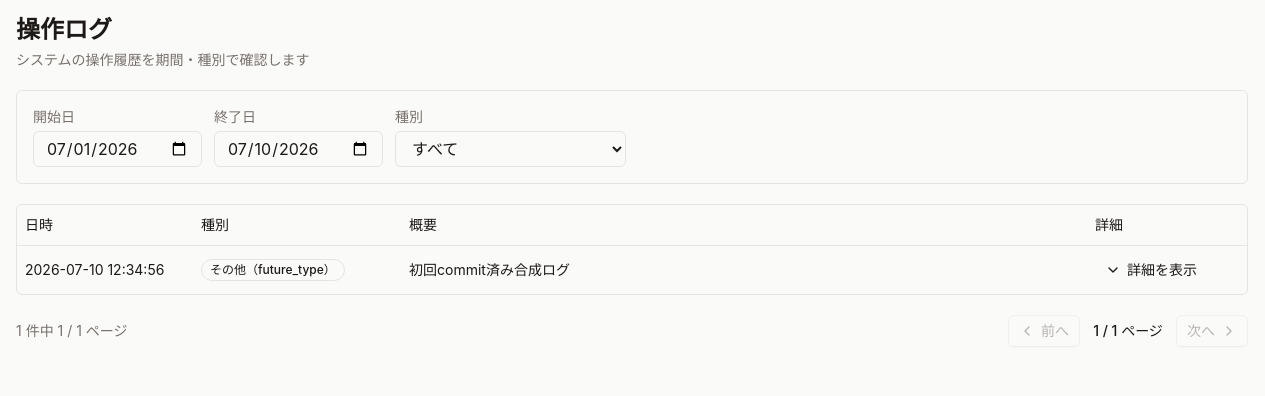
Test: UI-11c REQ-902 › REQ-902 keeps the last committed valid search after a newer valid search commits
Expected: the text "初回commit済み合成ログ" is shown, 401,245 -> 1087,294
Step 1. Type "2026-07-02" into the date field labelled "開始日" → {"x": 118, "y": 149}, box 33,131 -> 202,167
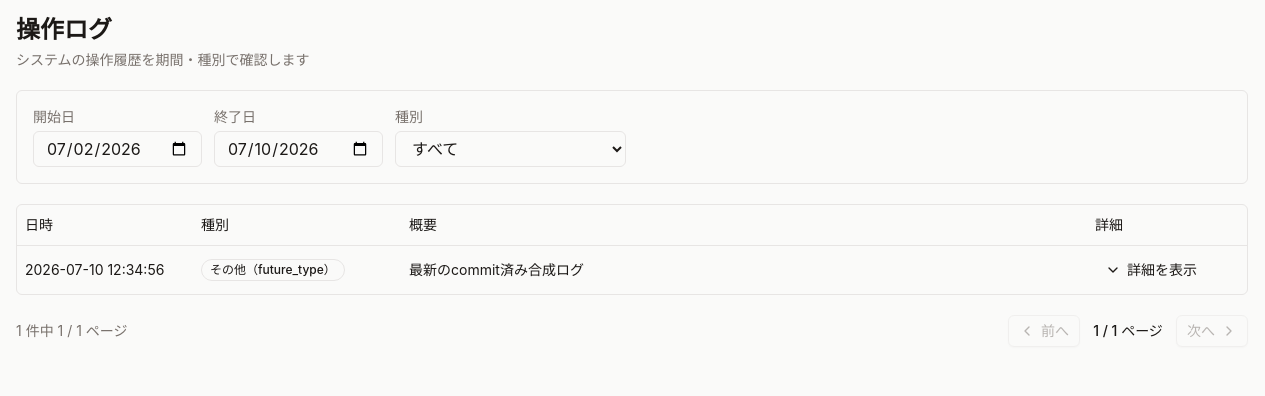
Expected: the text "最新のcommit済み合成ログ" is shown, 401,245 -> 1087,294
Step 2. Type "2026-07-11" into the date field labelled "開始日" → {"x": 118, "y": 149}, box 33,131 -> 202,167
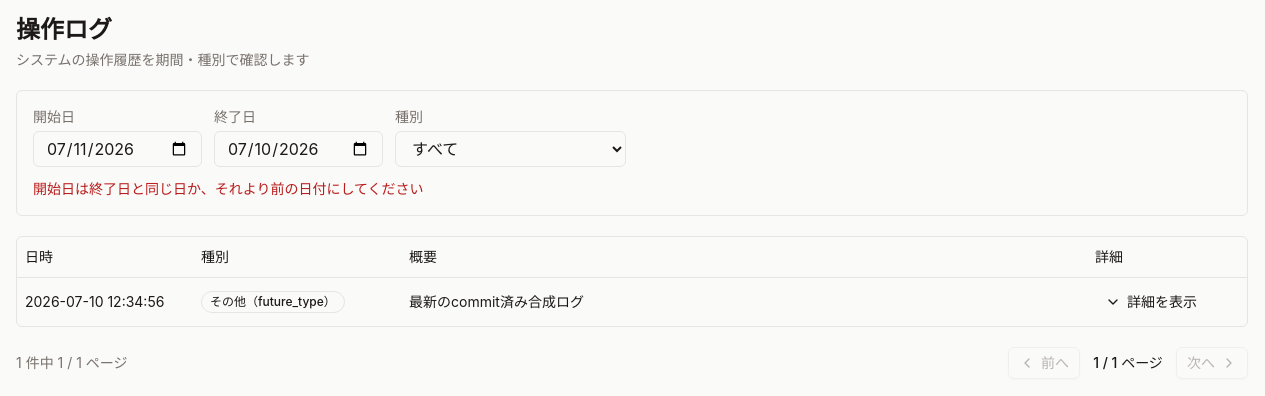
Expected: the text "初回commit済み合成ログ" is not shown
Expected: the text "最新のcommit済み合成ログ" is shown, 401,277 -> 1087,326
Expected: the message reads "開始日は終了日と同じ日か、それより前の日付にしてください", 33,180 -> 424,197
